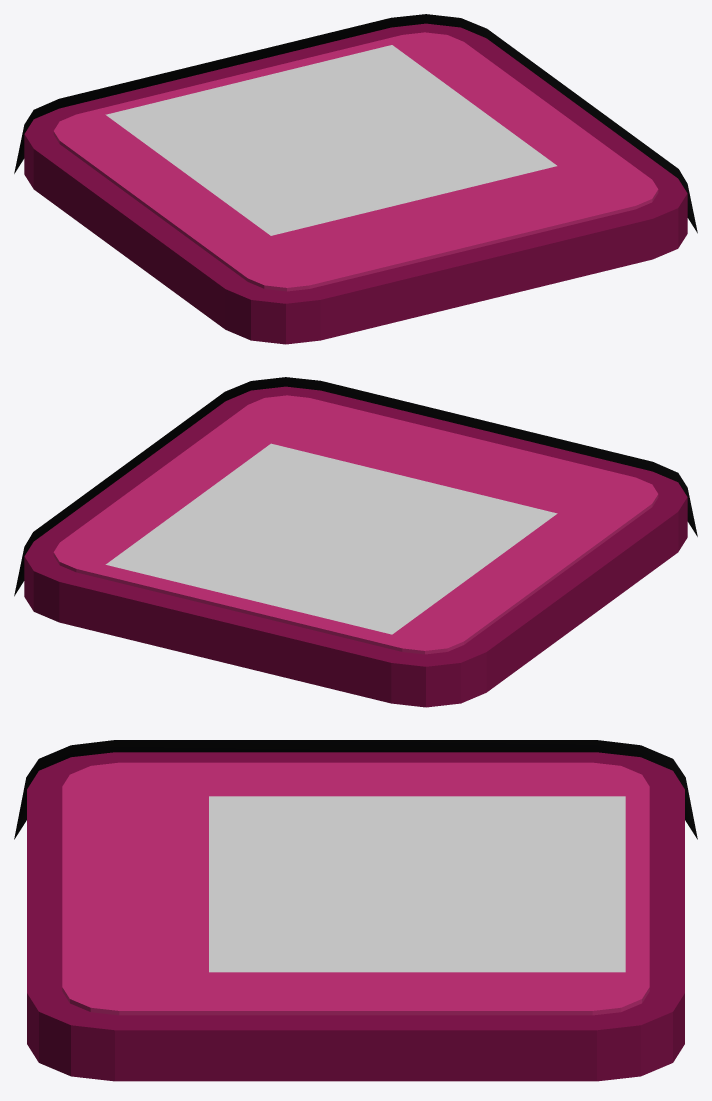
File: BR_Feld_Rutsche_Start.glb
The picture shows the model from 3 angles, top to bottom: view 1: azimuth 30°, elevation 25°; view 2: azimuth 150°, elevation 25°; view 3: azimuth 270°, elevation 25°; orthographic projection. The views are drawn at different scales.
Parts seen in each view (by area): view 1: BR_Feld_Rutsche_Start_Mesh, BR_Feld_Rutsche_Start_Outline; view 2: BR_Feld_Rutsche_Start_Mesh, BR_Feld_Rutsche_Start_Outline; view 3: BR_Feld_Rutsche_Start_Mesh, BR_Feld_Rutsche_Start_Outline.
Part boxes in pixels (<box>): BR_Feld_Rutsche_Start_Mesh: <box>24,23,687,344</box>; BR_Feld_Rutsche_Start_Outline: <box>14,14,697,233</box>; BR_Feld_Rutsche_Start_Mesh: <box>24,386,687,707</box>; BR_Feld_Rutsche_Start_Outline: <box>14,377,697,596</box>; BR_Feld_Rutsche_Start_Mesh: <box>27,752,684,1081</box>; BR_Feld_Rutsche_Start_Outline: <box>14,740,697,839</box>.
Size of the model in its own units: 1.56 by 0.1588 by 1.56.
